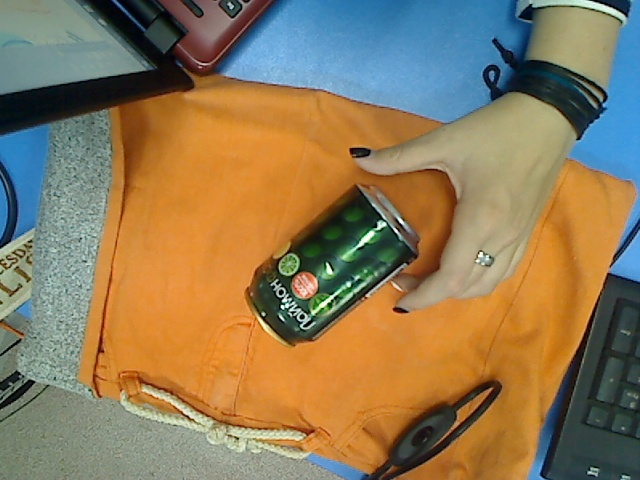can: (243, 183, 422, 348)
